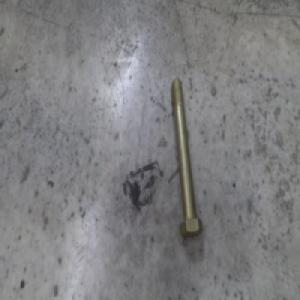Bolt: (171, 80, 203, 238)
